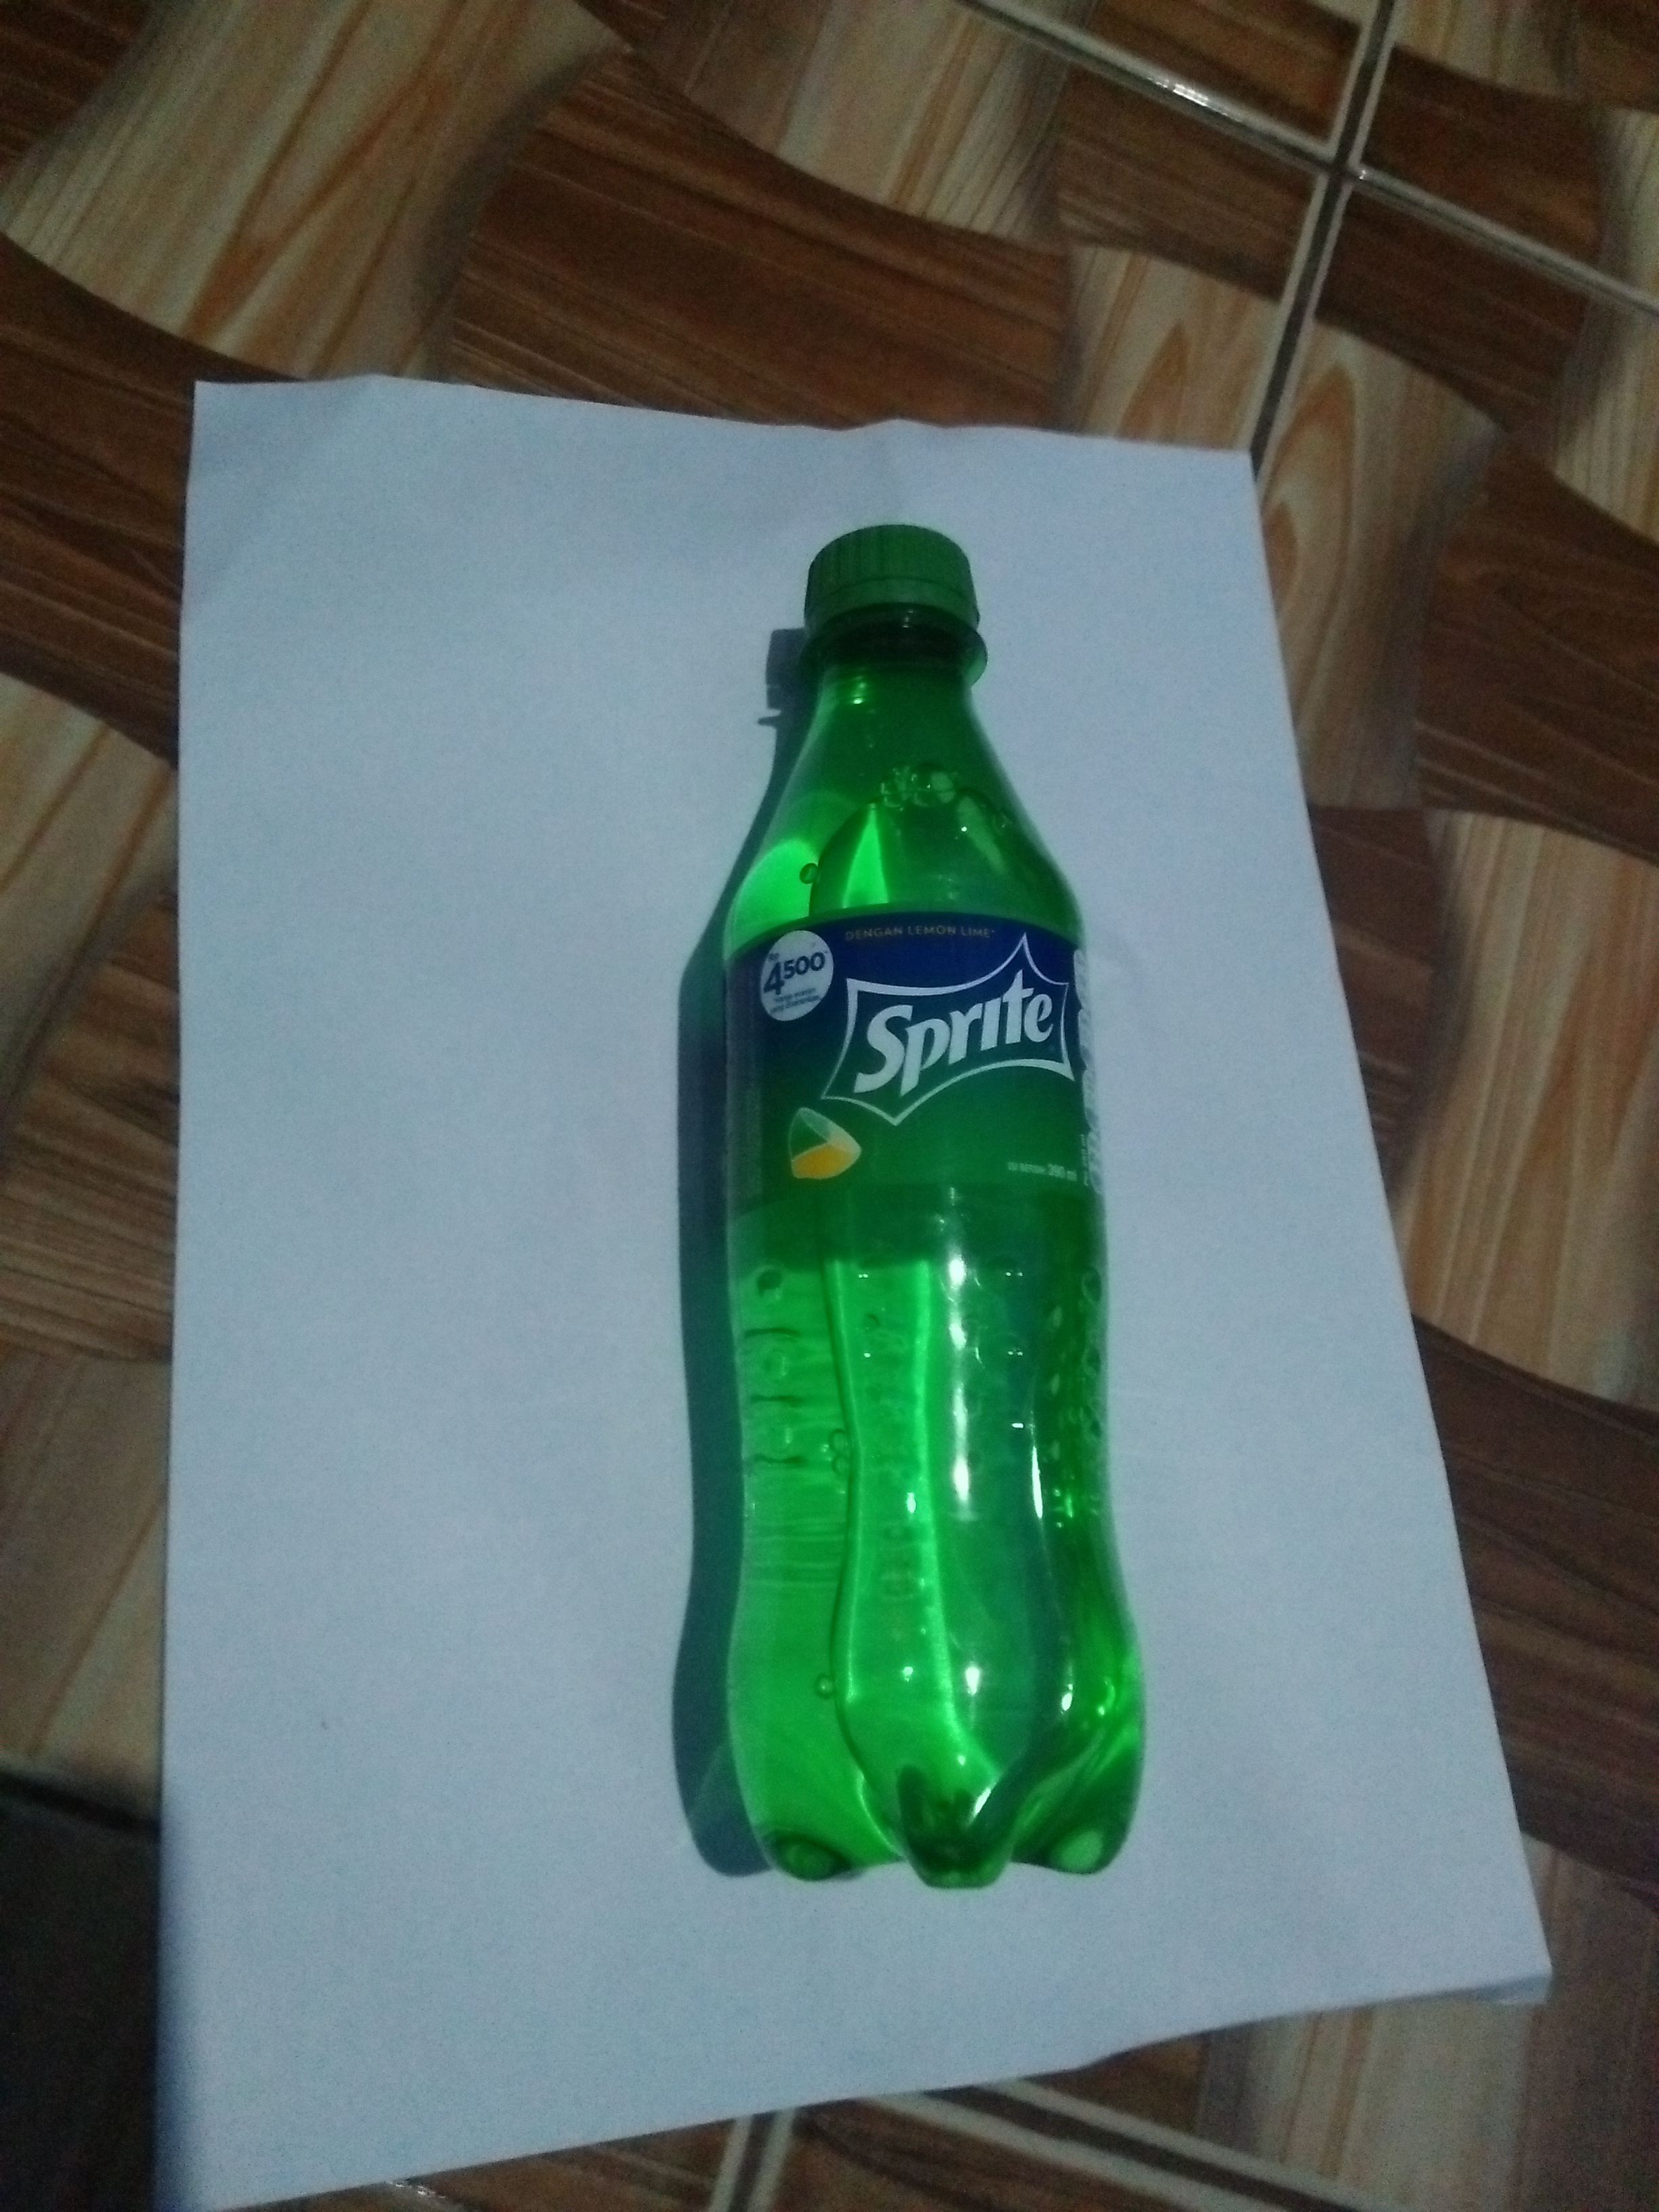Sprite: (650, 502, 1199, 1879)
